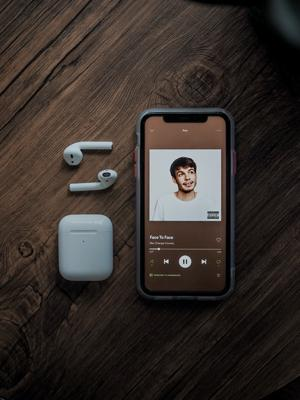cell-phone: (133, 109, 238, 302)
